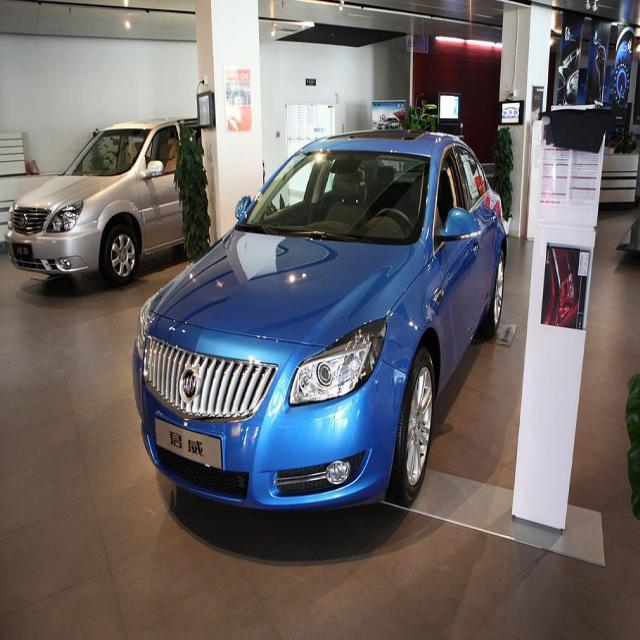front_bumper: (128, 352, 407, 508)
front_glass: (237, 148, 433, 242)
front_left_side_door: (433, 148, 478, 394)
front_left_side_light: (282, 310, 390, 412)
front_left_side_mirror: (437, 204, 481, 246)
front_right_side_light: (135, 293, 153, 369)
front_right_side_mirror: (234, 192, 251, 224)
wheel: (389, 348, 436, 506)
